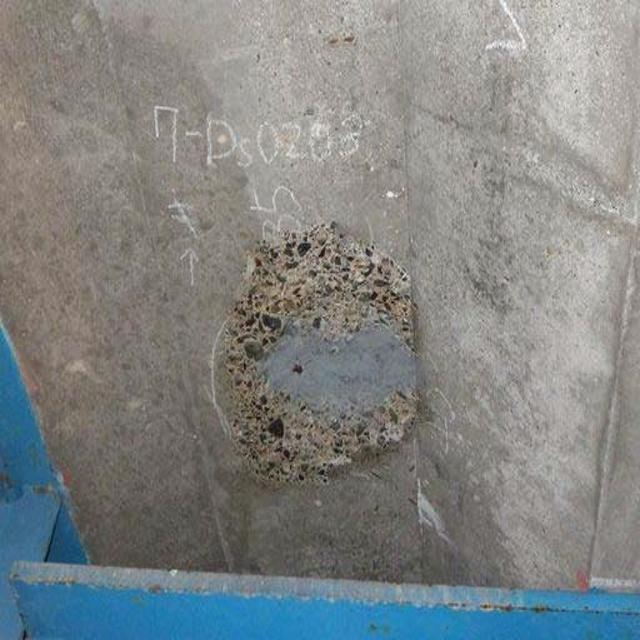spalling: (187, 210, 439, 477)
